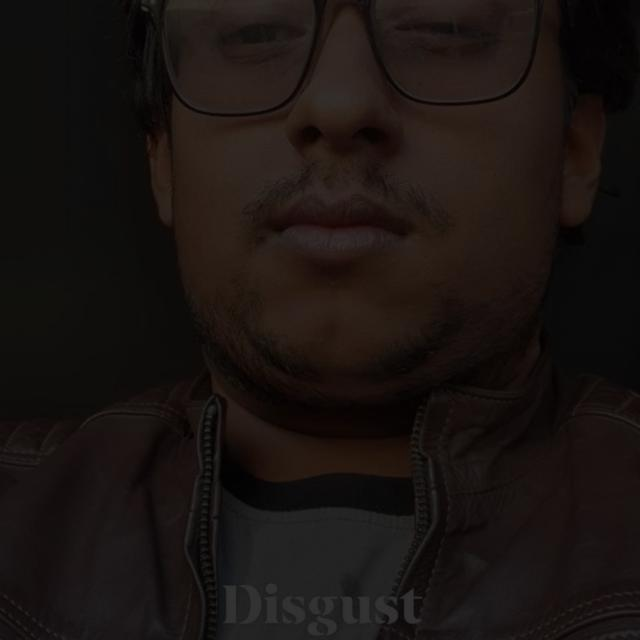Surprised: (108, 0, 597, 411)
